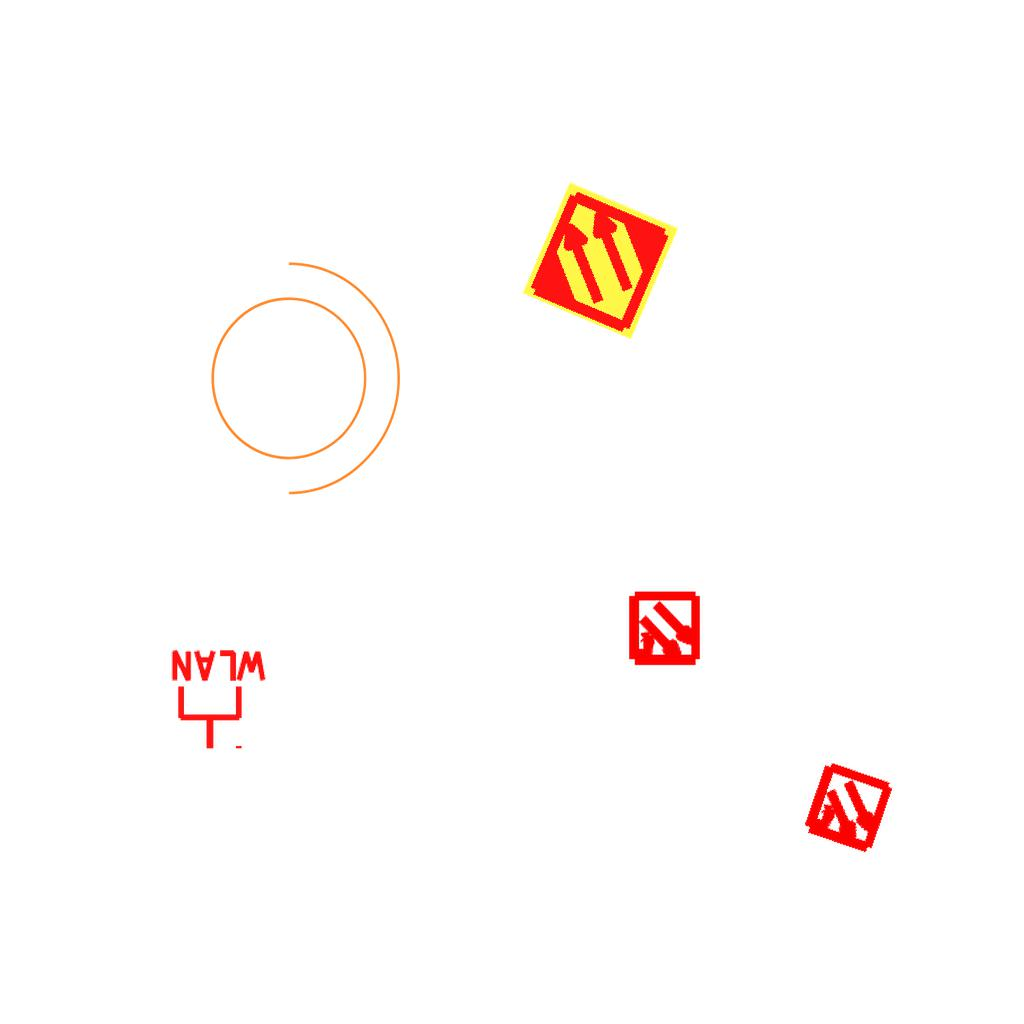ASR_Ansaugrauchmelder: (518, 178, 683, 343)
OT_Multisensormelder_(Kombination_RMO_WMD): (775, 737, 920, 882), (608, 574, 721, 687)
Scheinwerfer_fuer_Alarmbeleuchtung: (186, 240, 411, 504)
WLAN: (167, 648, 271, 753)
